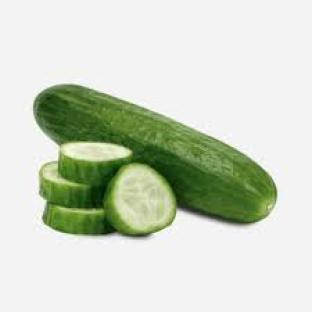Cucumber: (35, 85, 277, 221), (104, 164, 176, 235), (59, 142, 131, 185), (39, 163, 102, 207), (43, 203, 113, 234)
